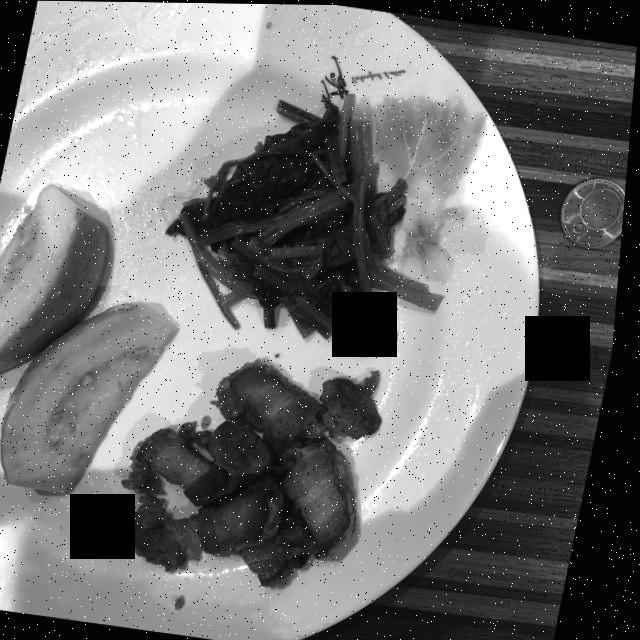coin: (563, 176, 628, 246)
guava -sliced-: (0, 184, 182, 493)
mustard greens: (170, 92, 447, 348)
red grilled pork: (122, 359, 388, 585)
